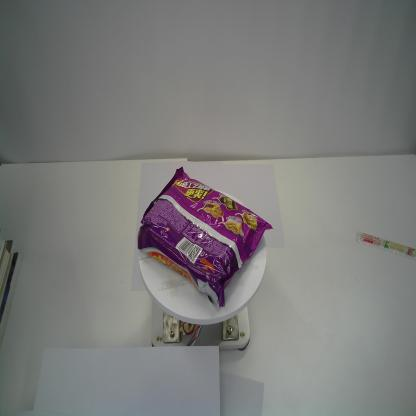Instant Noodles: (137, 166, 274, 308)
